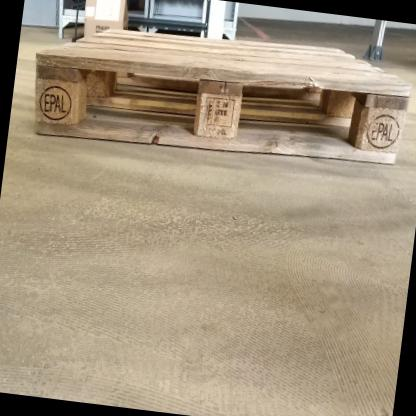BoxFace: (32, 22, 416, 173)
